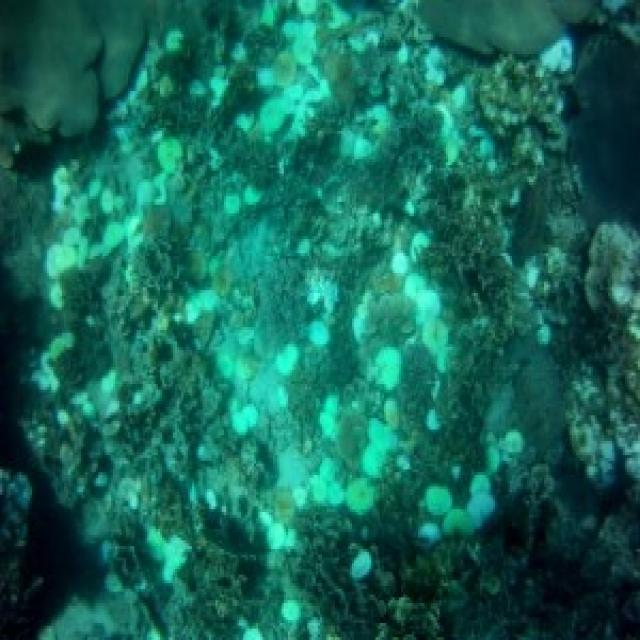Bleached: (22, 4, 640, 636)
Healthy: (304, 530, 639, 640), (6, 1, 219, 139), (425, 2, 609, 60)
